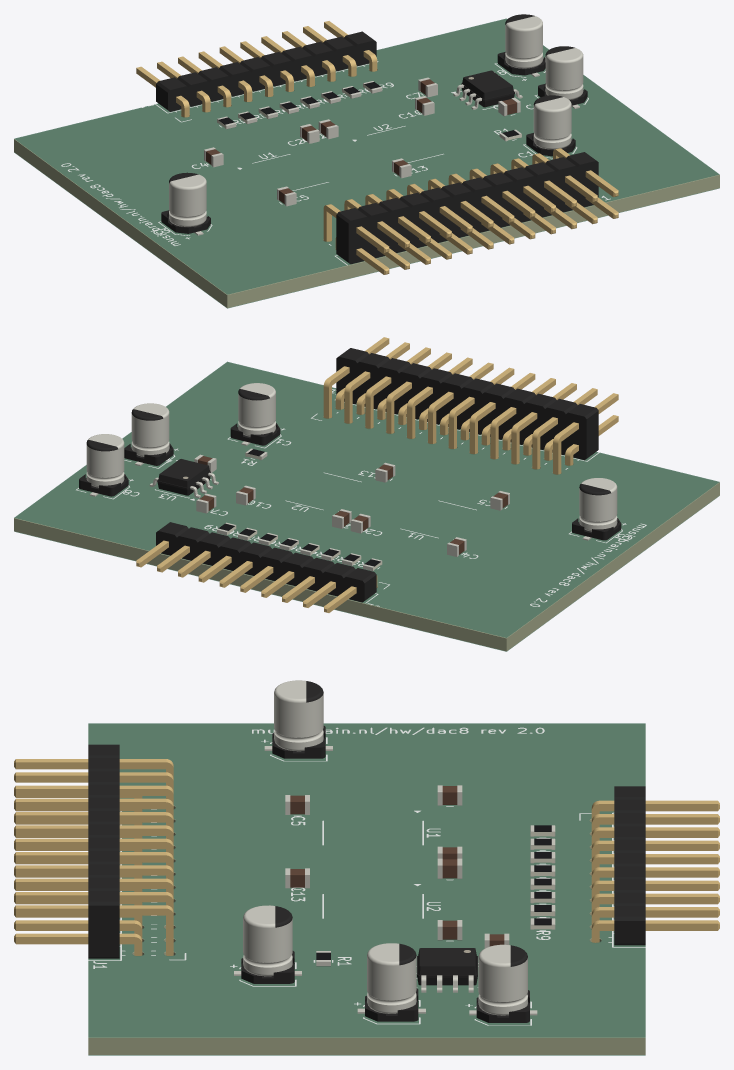
Rendered from musicbrain-dac8.glb.
3 views of the same model, one above another, from view 1: azimuth 30°, elevation 25°; view 2: azimuth 150°, elevation 25°; view 3: azimuth 270°, elevation 25° (orthographic). The views are drawn at different scales.
Parts seen in each view (by area): view 1: =>[0:1:1:17], =>[0:1:1:15], =>[0:1:1:3], =>[0:1:1:5], =>[0:1:1:11] (×4), =>[0:1:1:14], =>[0:1:1:9], =>[0:1:1:16]; view 2: =>[0:1:1:17], =>[0:1:1:15], =>[0:1:1:3], =>[0:1:1:11] (×4), =>[0:1:1:5], =>[0:1:1:14], =>[0:1:1:9], =>[0:1:1:16]; view 3: =>[0:1:1:17], =>[0:1:1:15], =>[0:1:1:3], =>[0:1:1:5], =>[0:1:1:11] (×4), =>[0:1:1:14], =>[0:1:1:9].
Boxes of the visible parts, x1,y1,x2,y2 form: =>[0:1:1:17]: (14,19,719,307); =>[0:1:1:15]: (14,18,719,294); =>[0:1:1:3]: (323,148,618,274); =>[0:1:1:5]: (136,21,377,117); =>[0:1:1:11] (×4): (161,14,587,235); =>[0:1:1:14]: (61,61,610,265); =>[0:1:1:9]: (453,70,522,109); =>[0:1:1:16]: (14,152,719,308); =>[0:1:1:17]: (14,363,719,651); =>[0:1:1:15]: (14,361,719,637); =>[0:1:1:3]: (323,337,618,474); =>[0:1:1:11] (×4): (79,383,621,540); =>[0:1:1:5]: (136,522,377,612); =>[0:1:1:14]: (76,389,646,606); =>[0:1:1:9]: (149,459,218,498); =>[0:1:1:16]: (14,495,719,651); =>[0:1:1:17]: (88,724,645,1054); =>[0:1:1:15]: (88,723,645,1037); =>[0:1:1:3]: (14,744,173,958); =>[0:1:1:5]: (591,786,719,945); =>[0:1:1:11] (×4): (234,680,537,1022); =>[0:1:1:14]: (88,727,645,1025); =>[0:1:1:9]: (417,948,477,992).
Size of the model in its own units: 0.06 by 0.0083 by 0.057.
